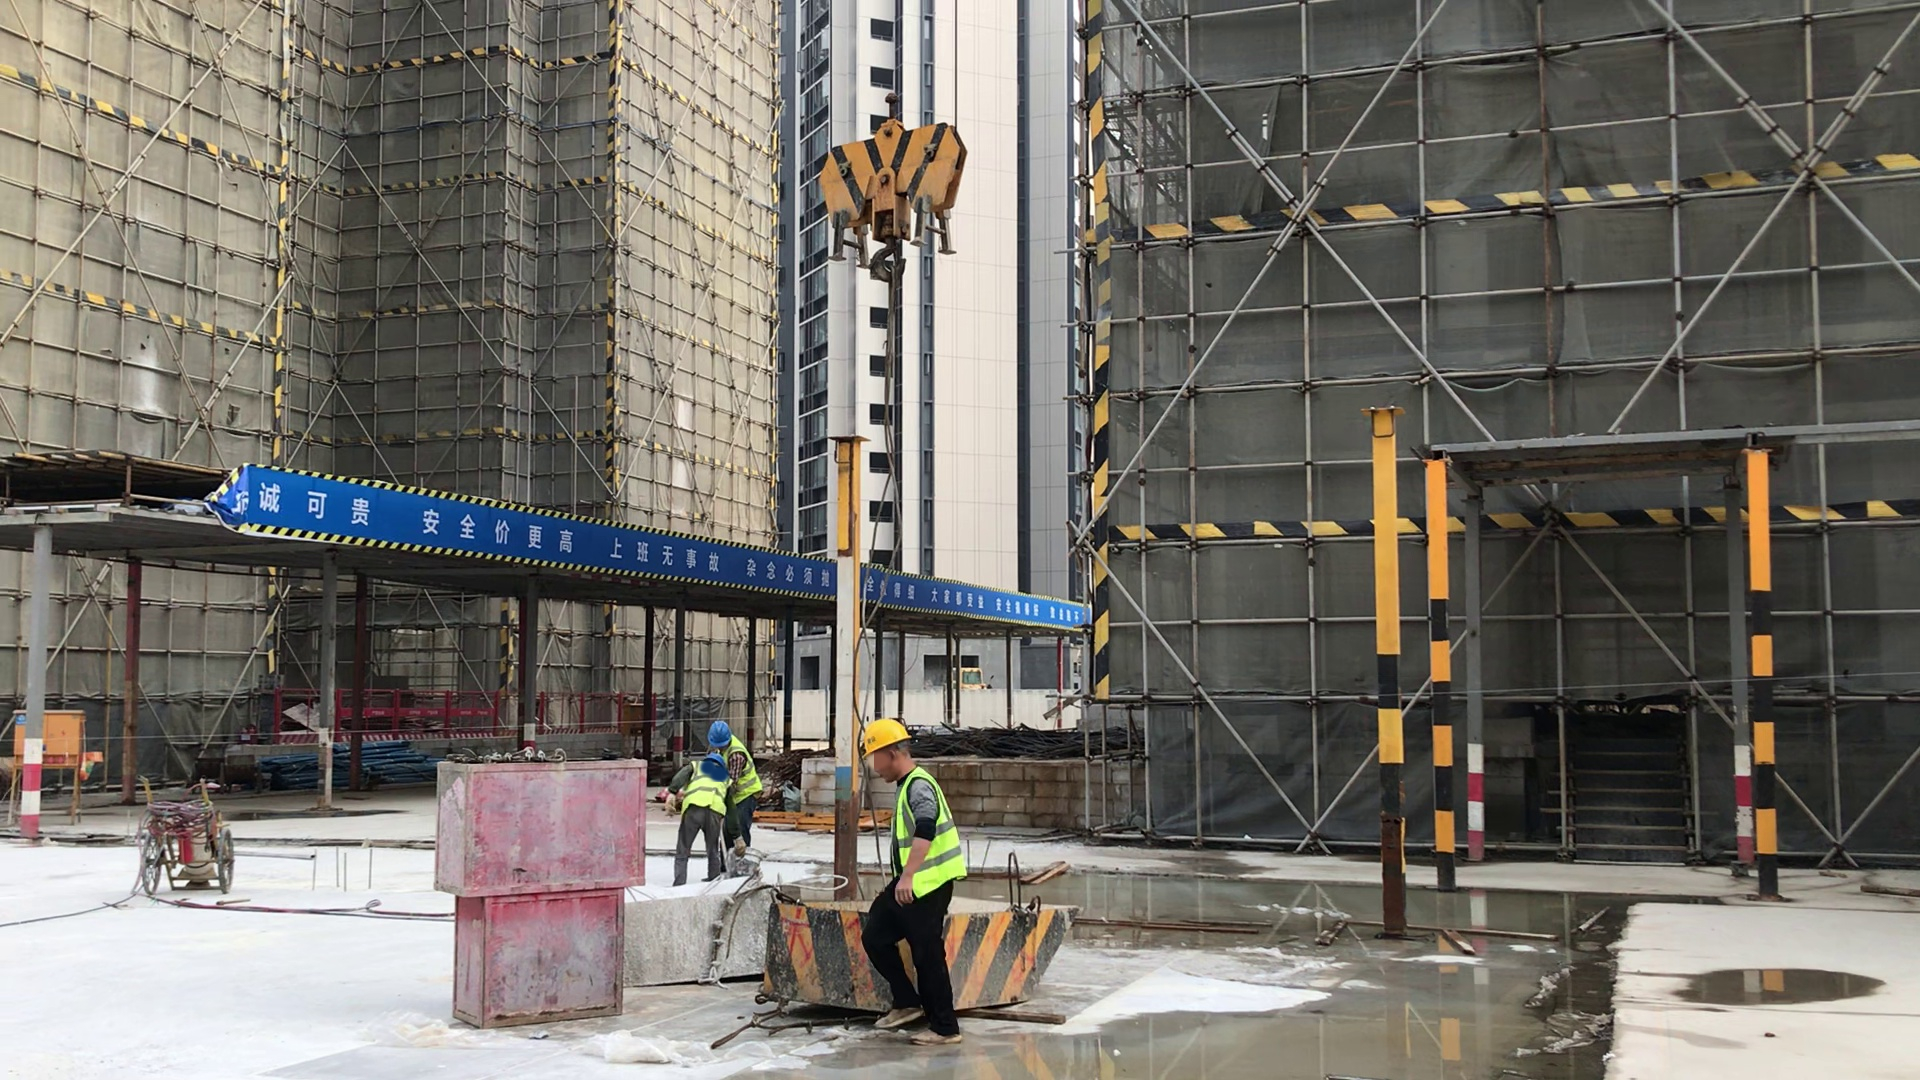ebox: (1, 705, 92, 783)
fence: (260, 672, 678, 752)
handcart: (123, 769, 240, 902)
helmet: (855, 713, 897, 754), (701, 716, 732, 742)
hook: (815, 98, 971, 286)
hopper: (756, 890, 1077, 1026), (603, 871, 777, 987)
person: (836, 716, 973, 1045), (699, 711, 756, 867), (678, 745, 736, 894)
slogan: (200, 423, 1140, 682)
vest: (885, 783, 959, 898), (681, 749, 763, 805)
